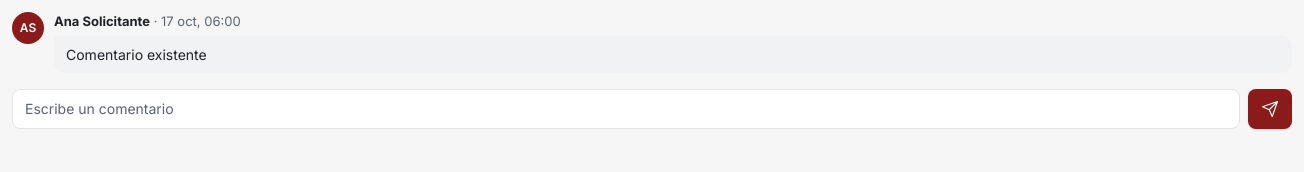
Test case: CommentsTab › submits a new comment and resets input on success
In the field labelled "Escribe un comentario": (626, 108) [12,88,1240,128], type "Nuevo comentario de prueba"
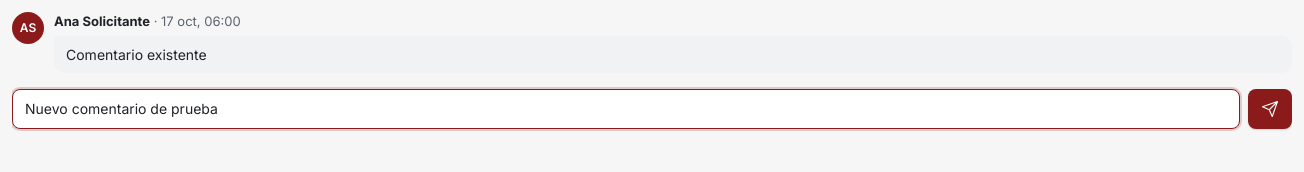
Click the button named "Enviar": (1270, 108) [1248,88,1292,128]
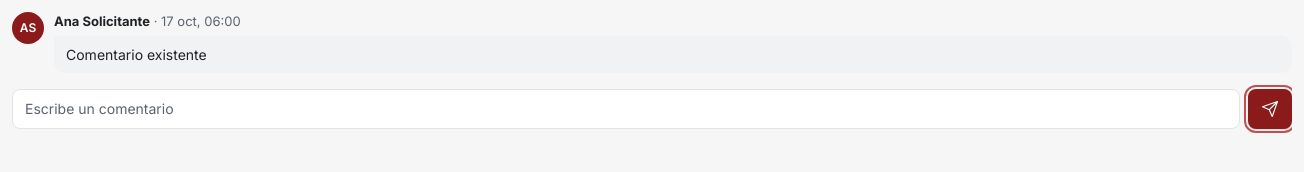
Expected: the field labelled "Escribe un comentario" is empty, [12,88,1240,128]
